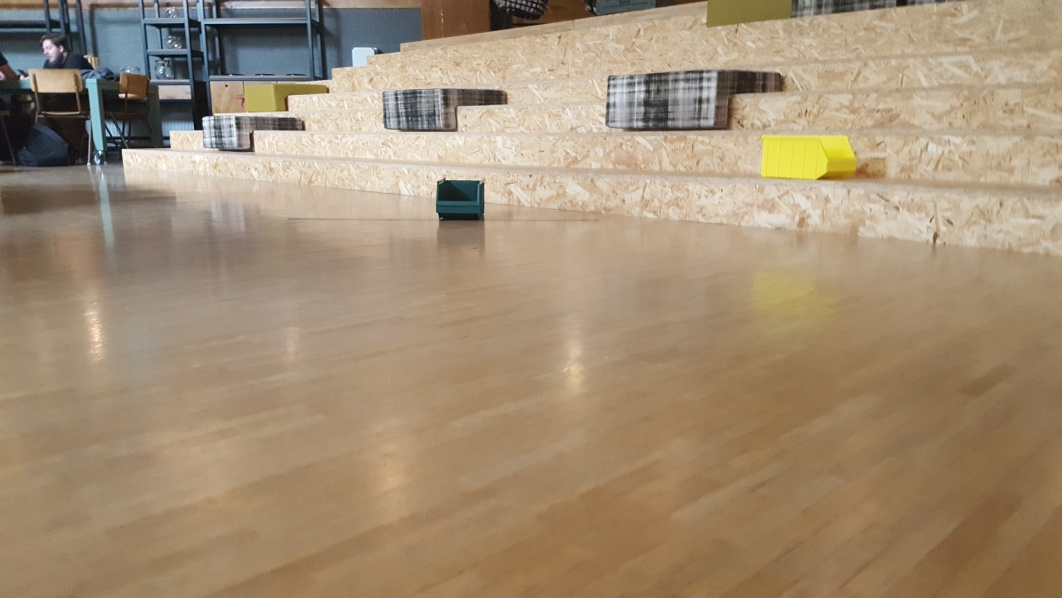tray: (758, 135, 859, 181), (435, 175, 486, 222)
